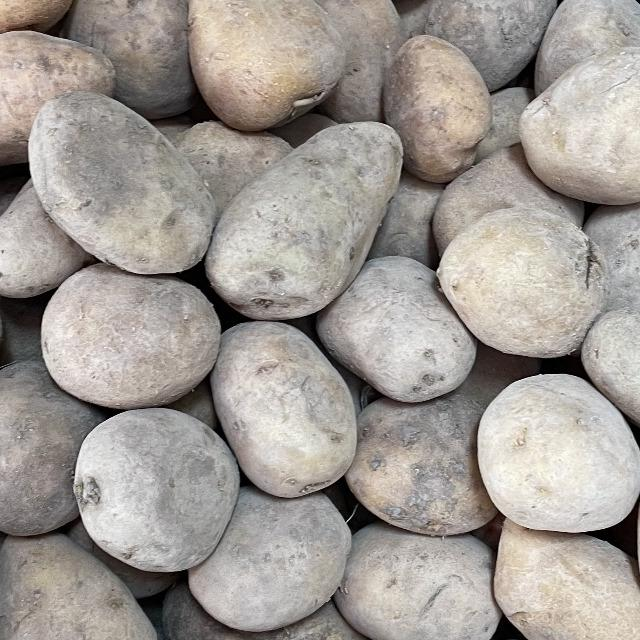potato: (208, 105, 420, 328), (18, 72, 220, 290), (58, 400, 268, 585), (497, 32, 640, 212), (175, 0, 377, 125)
